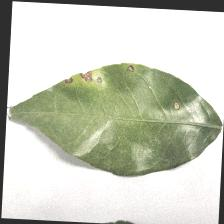canker: (59, 66, 195, 123)
